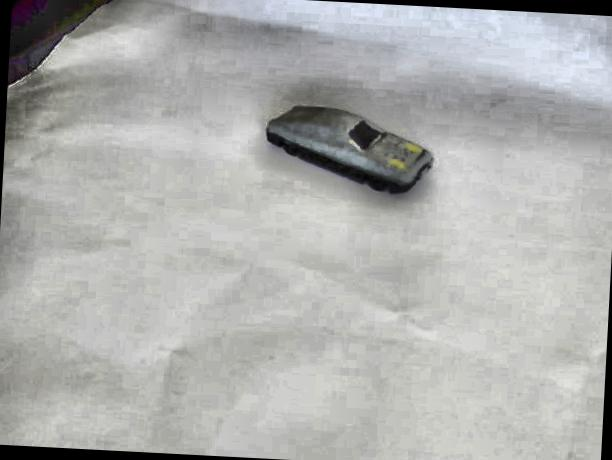normal_car: (258, 98, 438, 198)
